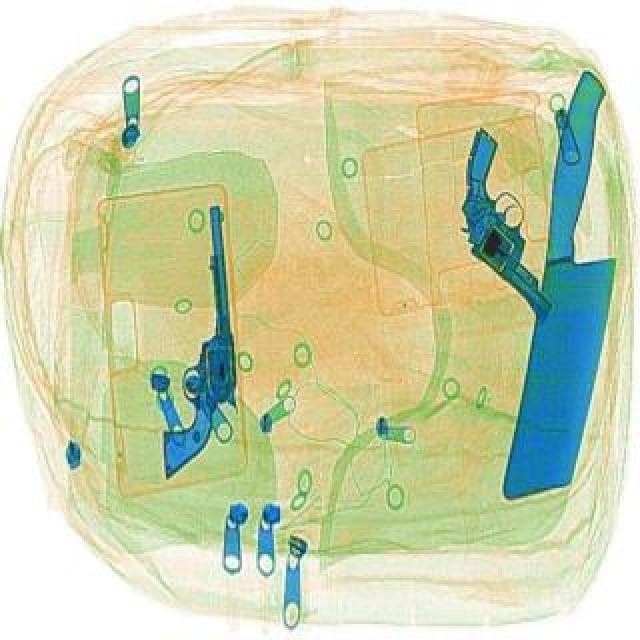gun: (404, 130, 622, 322), (140, 208, 244, 484)
knife: (500, 74, 638, 510)
